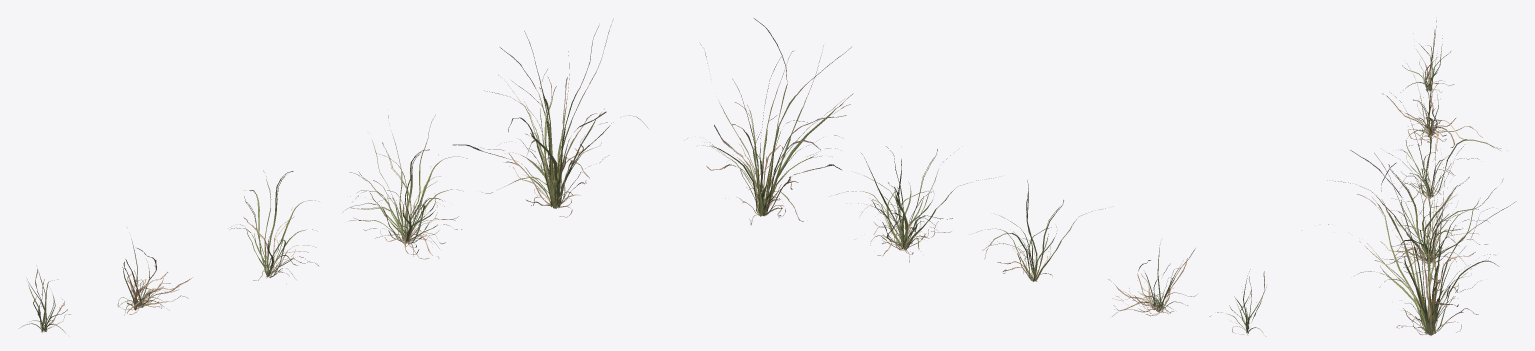
File: grass.glb
The picture shows the model from 3 angles, left to right: view 1: azimuth 30°, elevation 25°; view 2: azimuth 150°, elevation 25°; view 3: azimuth 270°, elevation 25°; orthographic projection. The views are drawn at different scales.
Visible parts, largest first — view 1: grass_medium_02_a; view 2: grass_medium_02_a; view 3: grass_medium_02_a.
Part boxes in pixels (x1=…): grass_medium_02_a: x1=19, y1=18, x2=648, y2=332; grass_medium_02_a: x1=687, y1=18, x2=1266, y2=334; grass_medium_02_a: x1=1327, y1=20, x2=1516, y2=335.
Bounding box in the file's own units: 1.31 × 0.4053 × 0.4333.
Materials: 1 (1 with a texture image).
